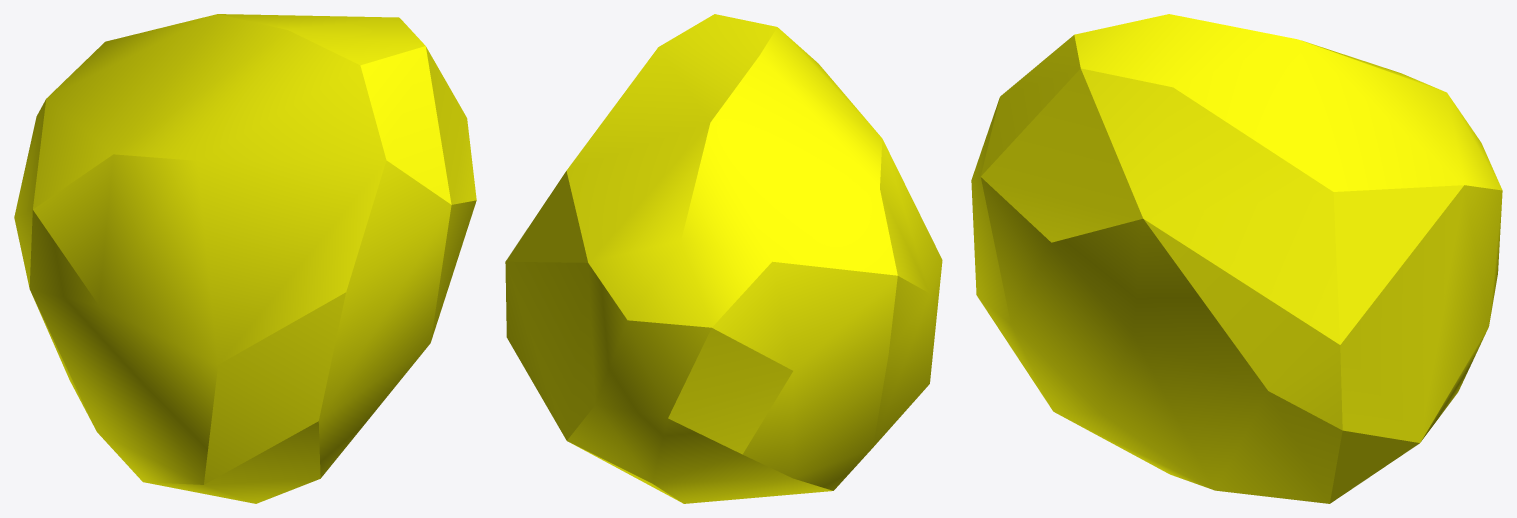
File: kaykit-rock-3-f-color-1.glb
3 renders of one model, left to right at view 1: azimuth 30°, elevation 25°; view 2: azimuth 150°, elevation 25°; view 3: azimuth 270°, elevation 25°, orthographic. The views are drawn at different scales.
Visible parts, largest first — view 1: Rock_3_F_Color1; view 2: Rock_3_F_Color1; view 3: Rock_3_F_Color1.
Boxes of the visible parts, x1,y1,x2,y2 form: Rock_3_F_Color1: (14, 14, 476, 503); Rock_3_F_Color1: (505, 14, 942, 503); Rock_3_F_Color1: (971, 14, 1502, 503).
Size of the model in its own units: 1.09 by 1.18 by 1.19.
